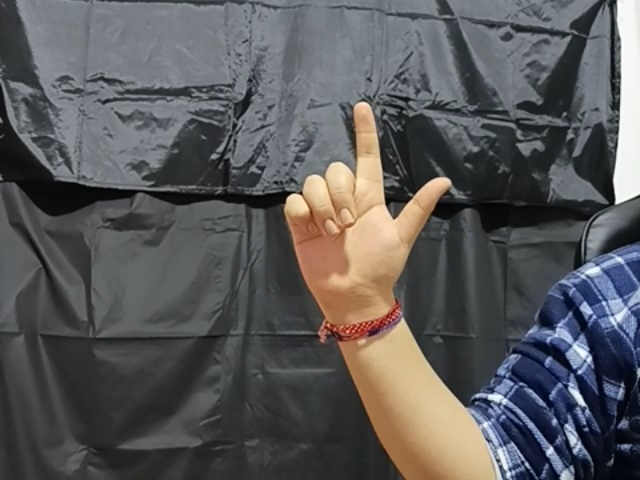L: (276, 100, 452, 311)
